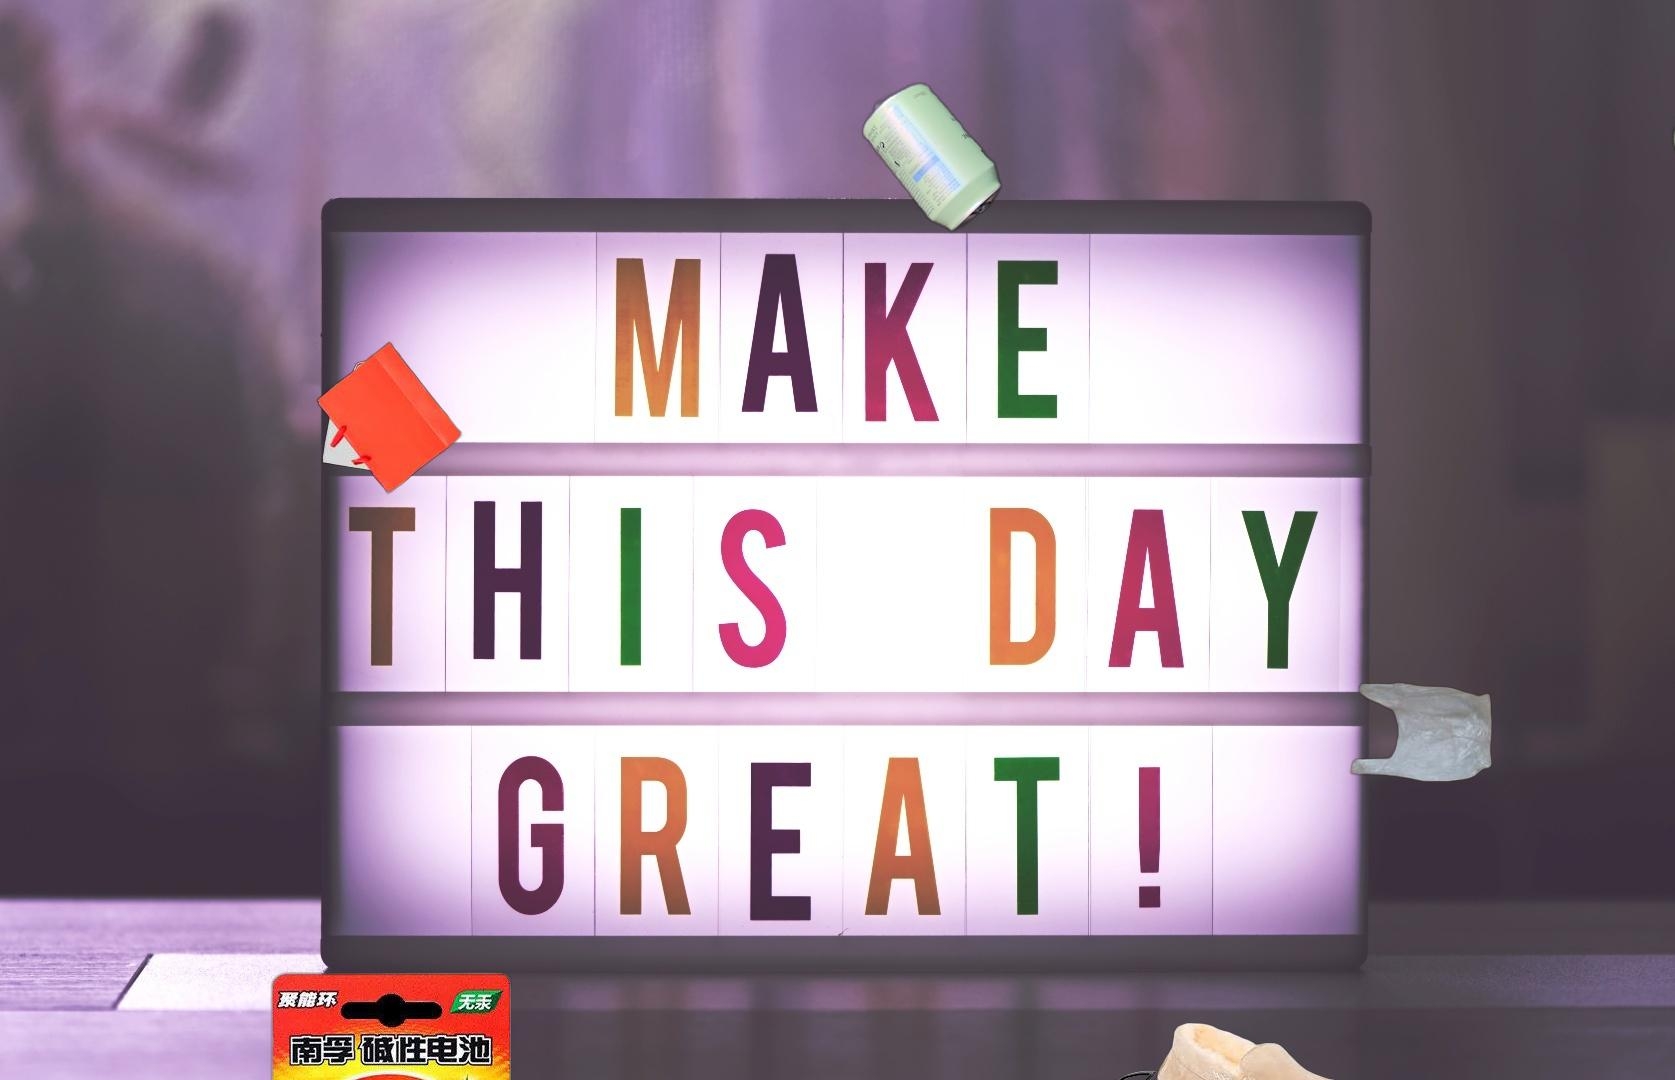battery: (265, 967, 680, 1080), (1057, 1068, 1210, 1080)
metal-cans: (858, 78, 1275, 271)
paper-bag: (314, 339, 468, 495)
plastic-bag: (1348, 680, 1496, 785)
plastic-bottles: (1668, 106, 1675, 362)
shoes: (1154, 1020, 1358, 1080)
